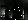person: (2, 6, 8, 19), (9, 7, 15, 18), (19, 11, 24, 20)
